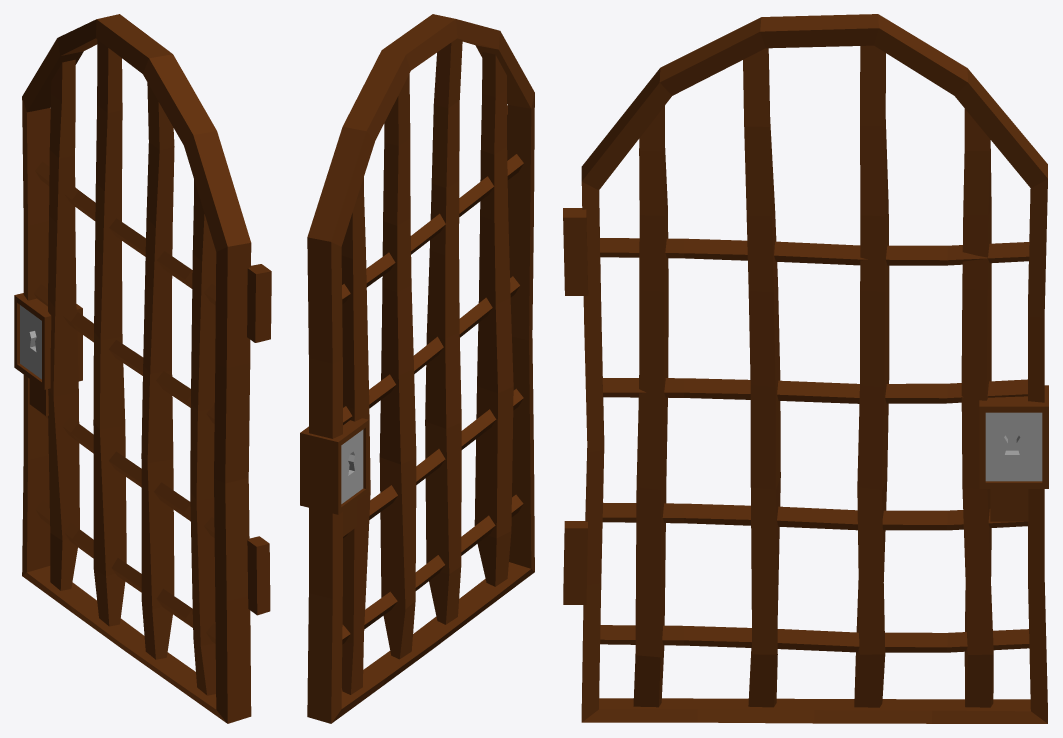
Rendered from Msh_Door.gltf.
3 views of the same model, side by side, from view 1: azimuth 30°, elevation 25°; view 2: azimuth 150°, elevation 25°; view 3: azimuth 270°, elevation 25° (orthographic). The views are drawn at different scales.
Parts seen in each view (by area): view 1: Door_Iron_Right; view 2: Door_Iron_Right; view 3: Door_Iron_Right.
Boxes of the visible parts, x1,y1,x2,y2 form: Door_Iron_Right: (14,14,271,723); Door_Iron_Right: (300,14,534,723); Door_Iron_Right: (563,14,1048,723).
Bounding box in the file's own units: 0.1629 × 2.12 × 1.34.
Materials: 1 (1 with a texture image).
